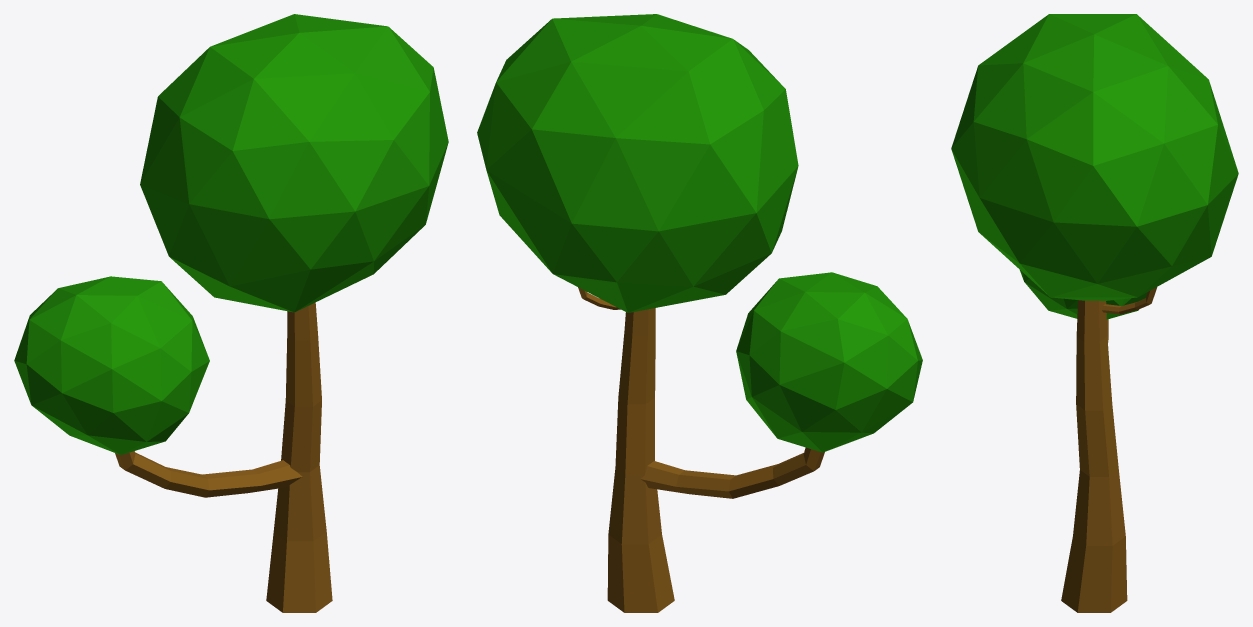
Rendered from boom.fbx.
The picture shows the model from 3 angles, left to right: view 1: azimuth 30°, elevation 25°; view 2: azimuth 150°, elevation 25°; view 3: azimuth 270°, elevation 25°; orthographic projection.
Visible parts, largest first — view 1: Cylinder; view 2: Cylinder; view 3: Cylinder.
Part boxes in pixels (x1,y1,x2,y2): Cylinder: (14, 14, 448, 612); Cylinder: (477, 14, 922, 612); Cylinder: (951, 14, 1238, 612).
Bounding box in the file's own units: 14.41 × 18.9 × 8.69.
